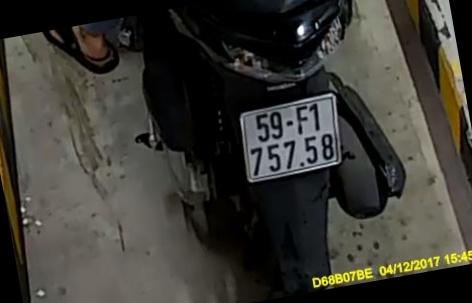plate: (234, 94, 346, 179)
